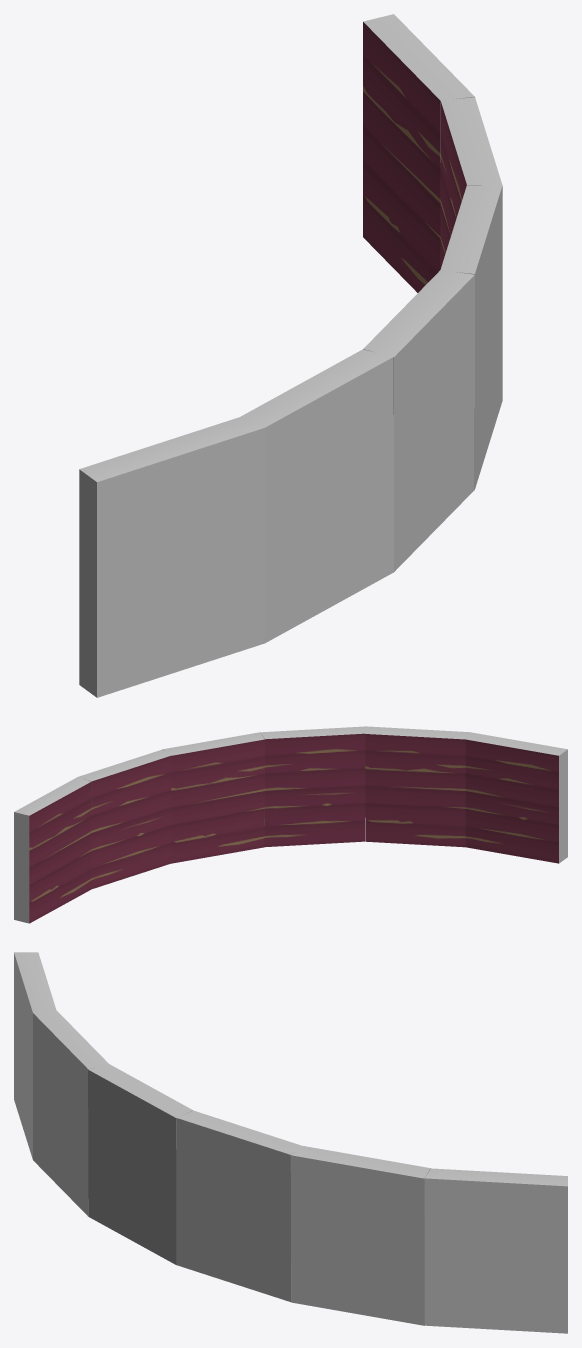
The model's file is SM_Bld_Wall_Curved_L_Half_01_Collision.fbx.
3 views of the same model, one above another, from view 1: azimuth 30°, elevation 25°; view 2: azimuth 150°, elevation 25°; view 3: azimuth 270°, elevation 25° (orthographic). The views are drawn at different scales.
Visible parts, largest first — view 1: SM_Bld_Wall_Curved_L_Half_01_Collision; view 2: SM_Bld_Wall_Curved_L_Half_01_Collision; view 3: SM_Bld_Wall_Curved_L_Half_01_Collision.
Part boxes in pixels (left/top/right/bottom): SM_Bld_Wall_Curved_L_Half_01_Collision: left=79, top=14, right=502, bottom=697; SM_Bld_Wall_Curved_L_Half_01_Collision: left=14, top=726, right=567, bottom=923; SM_Bld_Wall_Curved_L_Half_01_Collision: left=14, top=952, right=567, bottom=1333.
Bounding box in the file's own units: 511 × 150 × 511.
